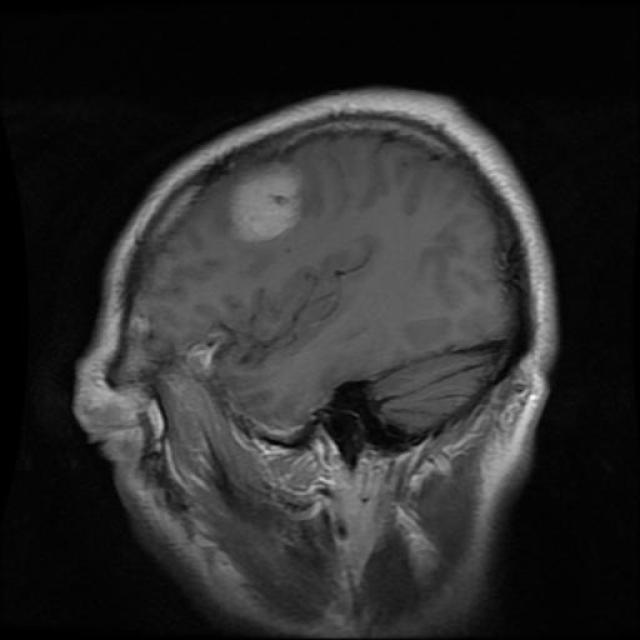meningioma: (231, 164, 299, 240)
